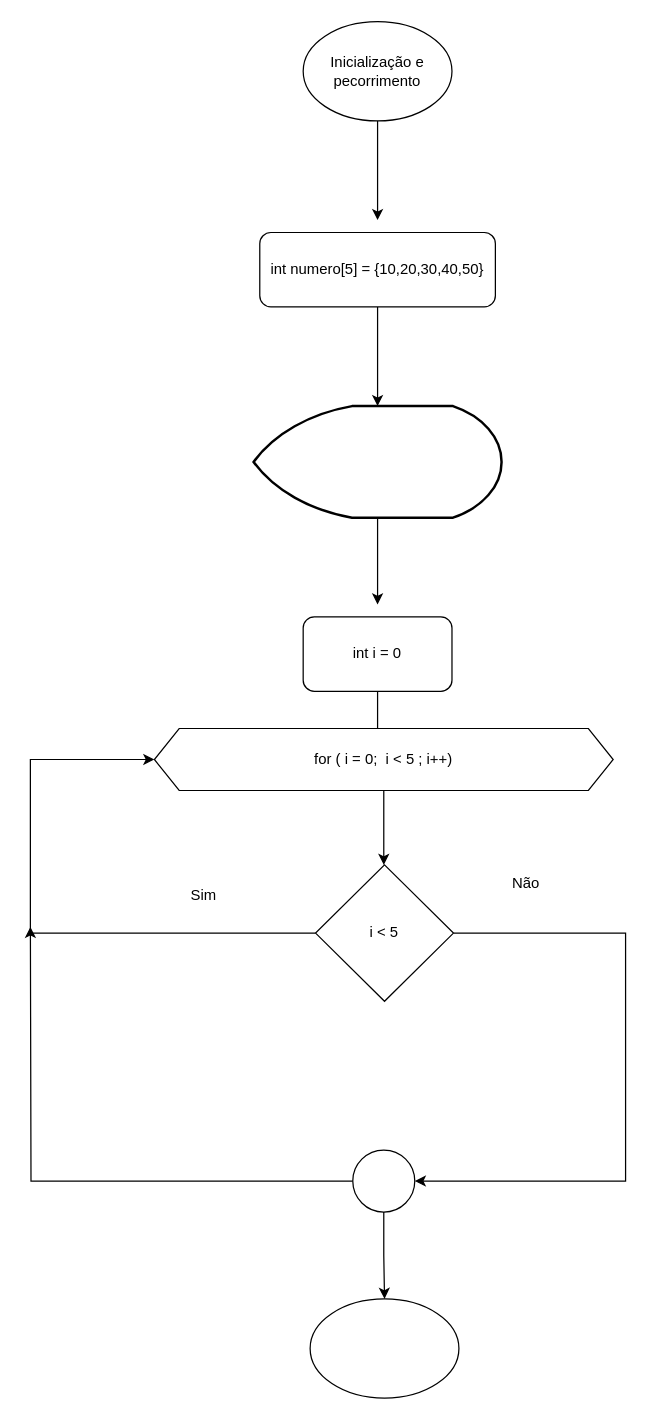
Image size: 657x1420. Some labels were removed from this diagram. Here are the shapes that lost their labels. From the top down, the box of each, then its label:
(252, 404, 502, 518): Exibindo elemento do array
(309, 1298, 459, 1398): Fim
